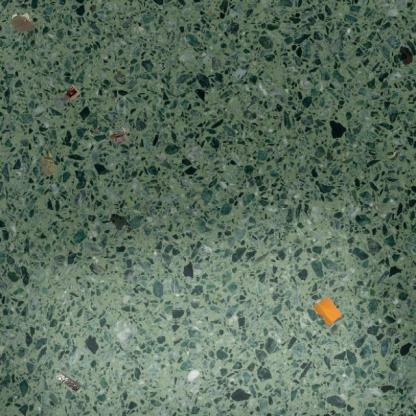dirty: (310, 294, 344, 327), (54, 370, 84, 393), (8, 11, 36, 35), (36, 147, 57, 177), (108, 124, 130, 147), (59, 83, 81, 104)
liquid: (108, 213, 134, 234), (400, 44, 412, 64)
